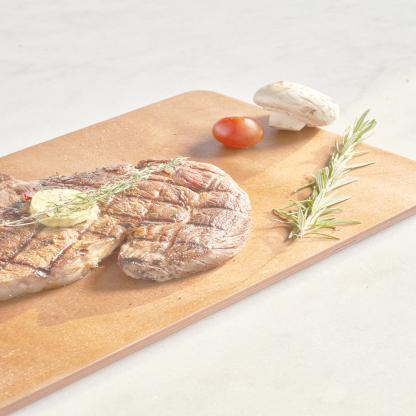Carne: (1, 154, 252, 282)
